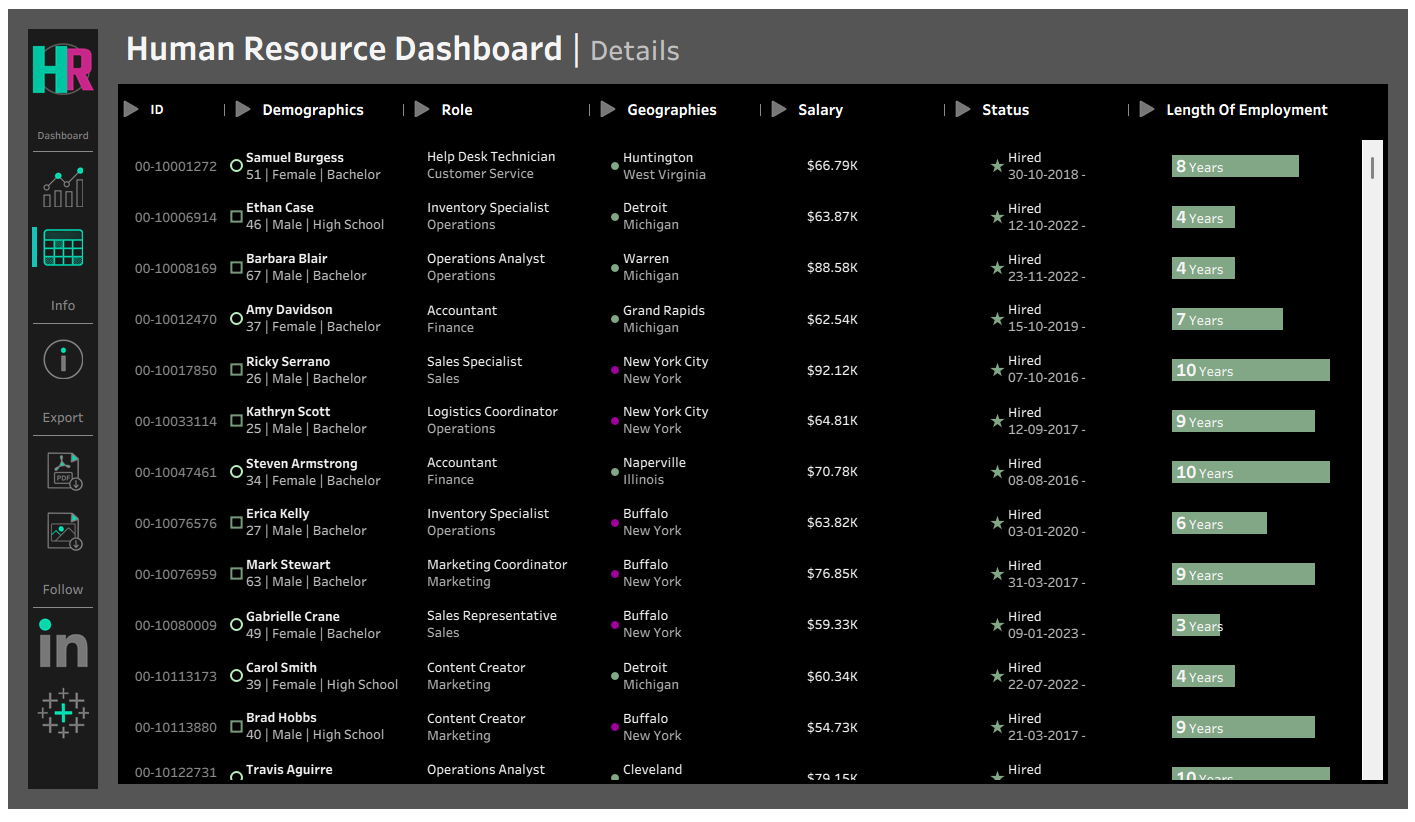

The page's visual inventory and layout, read from the dashboard file:
{"tool":"tableau","page":{"name":"HR | Details","canvas":[1400,800],"ordinal":0},"visuals":[{"type":"text","box":[93,0,1302,370]},{"type":"text","box":[110,0,677,75]},{"type":"blank","box":[787,0,593,75]},{"type":"image","param":"Image/Logo.png","box":[20,20,70,80]},{"type":"dashboard-object","box":[110,85,25,30]},{"type":"text","box":[135,85,76,30]},{"type":"blank","box":[211,85,11,262]},{"type":"dashboard-object","box":[222,85,25,30]},{"type":"text","box":[247,85,143,30]},{"type":"blank","box":[390,85,11,262]},{"type":"dashboard-object","box":[401,85,25,30]},{"type":"text","box":[426,85,148,30]},{"type":"blank","box":[576,85,11,262]},{"type":"dashboard-object","box":[587,85,25,30]},{"type":"text","box":[612,85,135,30]},{"type":"blank","box":[747,85,11,262]},{"type":"dashboard-object","box":[758,85,25,30]},{"type":"text","box":[783,85,148,30]},{"type":"blank","box":[931,85,11,262]},{"type":"dashboard-object","box":[941.9,85,25,30]},{"type":"text","box":[966.9,85,148,30]},{"type":"blank","box":[1114.9,85,11,262]},{"type":"dashboard-object","box":[1125.9,85,25,30]},{"type":"text","box":[1150.9,85,229.1,30]},{"type":"blank","box":[20,100,70,15]},{"type":"text","box":[20,115,70,22]},{"type":"filter","title":"List Of Employees","param":"[federated.13rxjmy1jcvkc51ezlxlq1k7a8bt].[none:Employee_ID:nk]","box":[110,115,101,58]},{"type":"filter","title":"List Of Employees","param":"[federated.13rxjmy1jcvkc51ezlxlq1k7a8bt].[none:Calculation_0516786419539971:nk]","box":[222,115,168,58]},{"type":"filter","title":"List Of Employees","param":"[federated.13rxjmy1jcvkc51ezlxlq1k7a8bt].[none:Job Title:nk]","box":[401,115,175,58]},{"type":"filter","title":"List Of Employees","param":"[federated.13rxjmy1jcvkc51ezlxlq1k7a8bt].[none:City:nk]","box":[587,115,160,58]},{"type":"filter","title":"List Of Employees","param":"[federated.13rxjmy1jcvkc51ezlxlq1k7a8bt].[sum:Salary:qk]","box":[758,115,173,70]},{"type":"filter","title":"List Of Employees","param":"[federated.13rxjmy1jcvkc51ezlxlq1k7a8bt].[none:Calculation_0311727184019462:nk]","box":[941.9,115,173,58]},{"type":"filter","title":"List Of Employees","param":"[federated.13rxjmy1jcvkc51ezlxlq1k7a8bt].[sum:Calculation_0516786424557572:qk]","box":[1125.9,115,254.1,70]},{"type":"blank","box":[20,137,70,11]},{"type":"dashboard-object","box":[20,148,70,60]},{"type":"filter","title":"List Of Employees","param":"[federated.13rxjmy1jcvkc51ezlxlq1k7a8bt].[none:Gender:nk]","box":[222,173,168,58]},{"type":"filter","title":"List Of Employees","param":"[federated.13rxjmy1jcvkc51ezlxlq1k7a8bt].[none:Department:nk]","box":[401,173,175,58]},{"type":"filter","title":"List Of Employees","param":"[federated.13rxjmy1jcvkc51ezlxlq1k7a8bt].[none:State:nk]","box":[587,173,160,58]},{"type":"filter","title":"List Of Employees","param":"[federated.13rxjmy1jcvkc51ezlxlq1k7a8bt].[yr:Hiredate:ok]","box":[941.9,173,173,58]},{"type":"dashboard-object","box":[20,208,70,60]},{"type":"blank","box":[24,218,5,40]},{"type":"filter","title":"List Of Employees","param":"[federated.13rxjmy1jcvkc51ezlxlq1k7a8bt].[none:Education Level:nk]","box":[222,231,168,58]},{"type":"filter","title":"List Of Employees","param":"[federated.13rxjmy1jcvkc51ezlxlq1k7a8bt].[yr:Termdate:ok]","box":[941.9,231,173,58]},{"type":"blank","box":[20,268,70,15]},{"type":"text","box":[20,283,70,26]},{"type":"filter","title":"List Of Employees","param":"[federated.13rxjmy1jcvkc51ezlxlq1k7a8bt].[none:Calculation_0311727143297029:nk]","box":[222,289,168,58]},{"type":"blank","box":[20,309,70,11]},{"type":"dashboard-object","box":[20,320,70,60]},{"type":"worksheet","title":"List Of Employees","mark":"Shape","rows":["Employee_ID"],"cols":["Calculation_0516786419040258","Calculation_0516786419040258","Calculation_0516786419040258","Calculation_0516786419040258","Calculation_0516786419040258","Calculation_0516786424557572"],"box":[110,357,1270,418]},{"type":"blank","box":[20,380,70,15]},{"type":"text","box":[20,395,70,26]},{"type":"blank","box":[20,421,70,11]},{"type":"dashboard-object","box":[20,432,70,60]},{"type":"dashboard-object","box":[20,492,70,60]},{"type":"blank","box":[20,552,70,15]},{"type":"text","box":[20,567,70,26]},{"type":"blank","box":[20,593,70,11]},{"type":"image","param":"Image/contact-linkedin.png","box":[20,604,70,60]},{"type":"blank","box":[20,664,70,10]},{"type":"image","param":"Image/contact-public.png","box":[20,674,70,60]}]}

Visuals, with their boxes on the page's 1400x800 design canvas (x1, y1, x2, y2). These are canvas units, not pixel positions in the 1415x822 screenshot, which may show the page scaled, cropped or inside an application window:
text: <region>93, 0, 1395, 370</region>
text: <region>110, 0, 787, 75</region>
blank: <region>787, 0, 1380, 75</region>
image: <region>20, 20, 90, 100</region>
dashboard-object: <region>110, 85, 135, 115</region>
text: <region>135, 85, 211, 115</region>
blank: <region>211, 85, 222, 347</region>
dashboard-object: <region>222, 85, 247, 115</region>
text: <region>247, 85, 390, 115</region>
blank: <region>390, 85, 401, 347</region>
dashboard-object: <region>401, 85, 426, 115</region>
text: <region>426, 85, 574, 115</region>
blank: <region>576, 85, 587, 347</region>
dashboard-object: <region>587, 85, 612, 115</region>
text: <region>612, 85, 747, 115</region>
blank: <region>747, 85, 758, 347</region>
dashboard-object: <region>758, 85, 783, 115</region>
text: <region>783, 85, 931, 115</region>
blank: <region>931, 85, 942, 347</region>
dashboard-object: <region>942, 85, 967, 115</region>
text: <region>967, 85, 1115, 115</region>
blank: <region>1115, 85, 1126, 347</region>
dashboard-object: <region>1126, 85, 1151, 115</region>
text: <region>1151, 85, 1380, 115</region>
blank: <region>20, 100, 90, 115</region>
text: <region>20, 115, 90, 137</region>
"List Of Employees" filter: <region>110, 115, 211, 173</region>
"List Of Employees" filter: <region>222, 115, 390, 173</region>
"List Of Employees" filter: <region>401, 115, 576, 173</region>
"List Of Employees" filter: <region>587, 115, 747, 173</region>
"List Of Employees" filter: <region>758, 115, 931, 185</region>
"List Of Employees" filter: <region>942, 115, 1115, 173</region>
"List Of Employees" filter: <region>1126, 115, 1380, 185</region>
blank: <region>20, 137, 90, 148</region>
dashboard-object: <region>20, 148, 90, 208</region>
"List Of Employees" filter: <region>222, 173, 390, 231</region>
"List Of Employees" filter: <region>401, 173, 576, 231</region>
"List Of Employees" filter: <region>587, 173, 747, 231</region>
"List Of Employees" filter: <region>942, 173, 1115, 231</region>
dashboard-object: <region>20, 208, 90, 268</region>
blank: <region>24, 218, 29, 258</region>
"List Of Employees" filter: <region>222, 231, 390, 289</region>
"List Of Employees" filter: <region>942, 231, 1115, 289</region>
blank: <region>20, 268, 90, 283</region>
text: <region>20, 283, 90, 309</region>
"List Of Employees" filter: <region>222, 289, 390, 347</region>
blank: <region>20, 309, 90, 320</region>
dashboard-object: <region>20, 320, 90, 380</region>
"List Of Employees" worksheet (Shape marks): <region>110, 357, 1380, 775</region>
blank: <region>20, 380, 90, 395</region>
text: <region>20, 395, 90, 421</region>
blank: <region>20, 421, 90, 432</region>
dashboard-object: <region>20, 432, 90, 492</region>
dashboard-object: <region>20, 492, 90, 552</region>
blank: <region>20, 552, 90, 567</region>
text: <region>20, 567, 90, 593</region>
blank: <region>20, 593, 90, 604</region>
image: <region>20, 604, 90, 664</region>
blank: <region>20, 664, 90, 674</region>
image: <region>20, 674, 90, 734</region>
